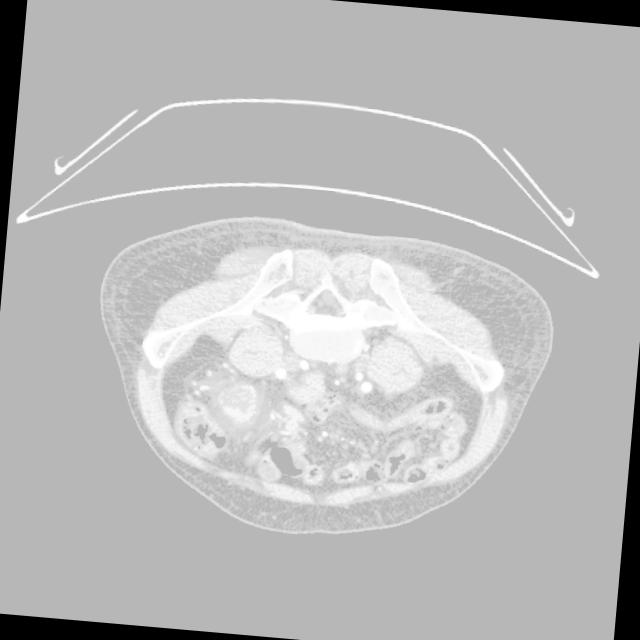TUMOR: (196, 322, 490, 443)
